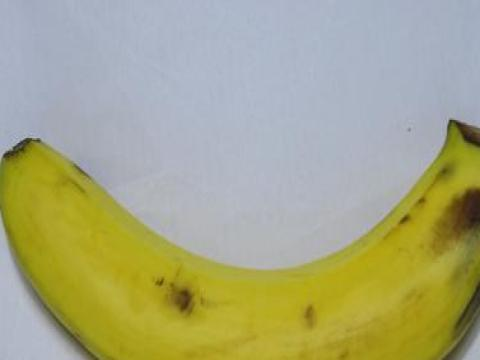freshripe: (0, 101, 479, 359)
